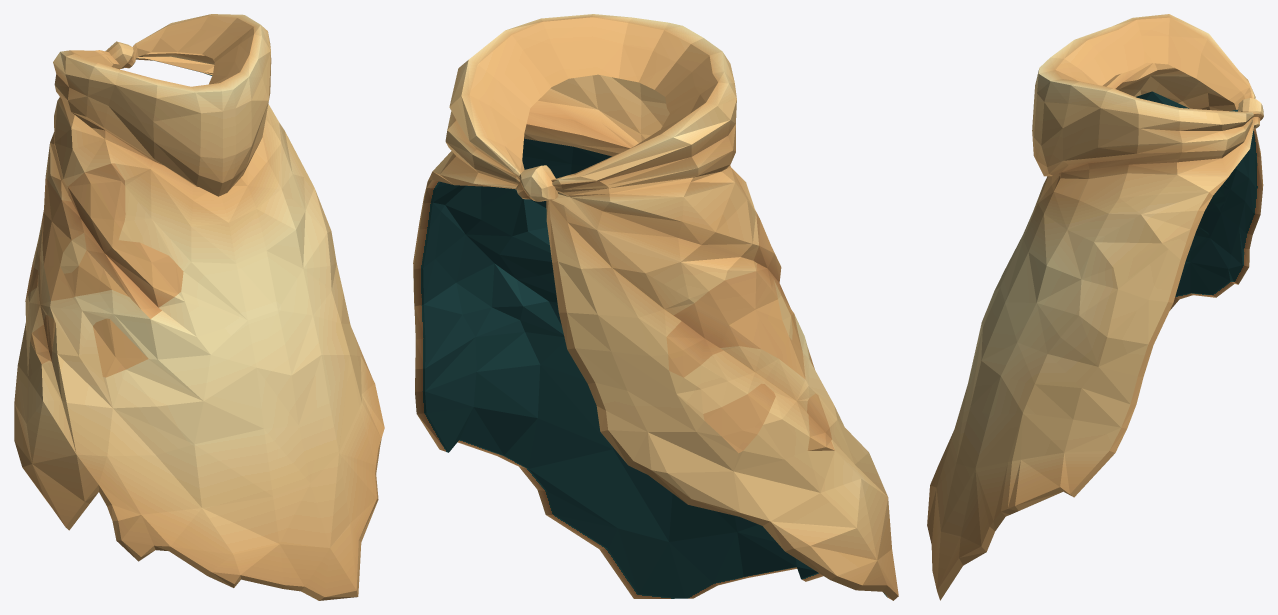
Rendered from CharSkyKid_Wing_AP10YellowCape_01.glb.
3 views of the same model, side by side, from view 1: azimuth 30°, elevation 25°; view 2: azimuth 150°, elevation 25°; view 3: azimuth 270°, elevation 25° (orthographic). The views are drawn at different scales.
Visible parts, largest first — view 1: CharSkyKid_Wing_AP10YellowCape_01; view 2: CharSkyKid_Wing_AP10YellowCape_01; view 3: CharSkyKid_Wing_AP10YellowCape_01.
Part boxes in pixels (<box>): CharSkyKid_Wing_AP10YellowCape_01: <box>14,14,384,600</box>; CharSkyKid_Wing_AP10YellowCape_01: <box>413,14,898,600</box>; CharSkyKid_Wing_AP10YellowCape_01: <box>927,14,1263,600</box>.
Size of the model in its own units: 6 by 8.58 by 5.2.
Materials: 1 (1 with a texture image).
